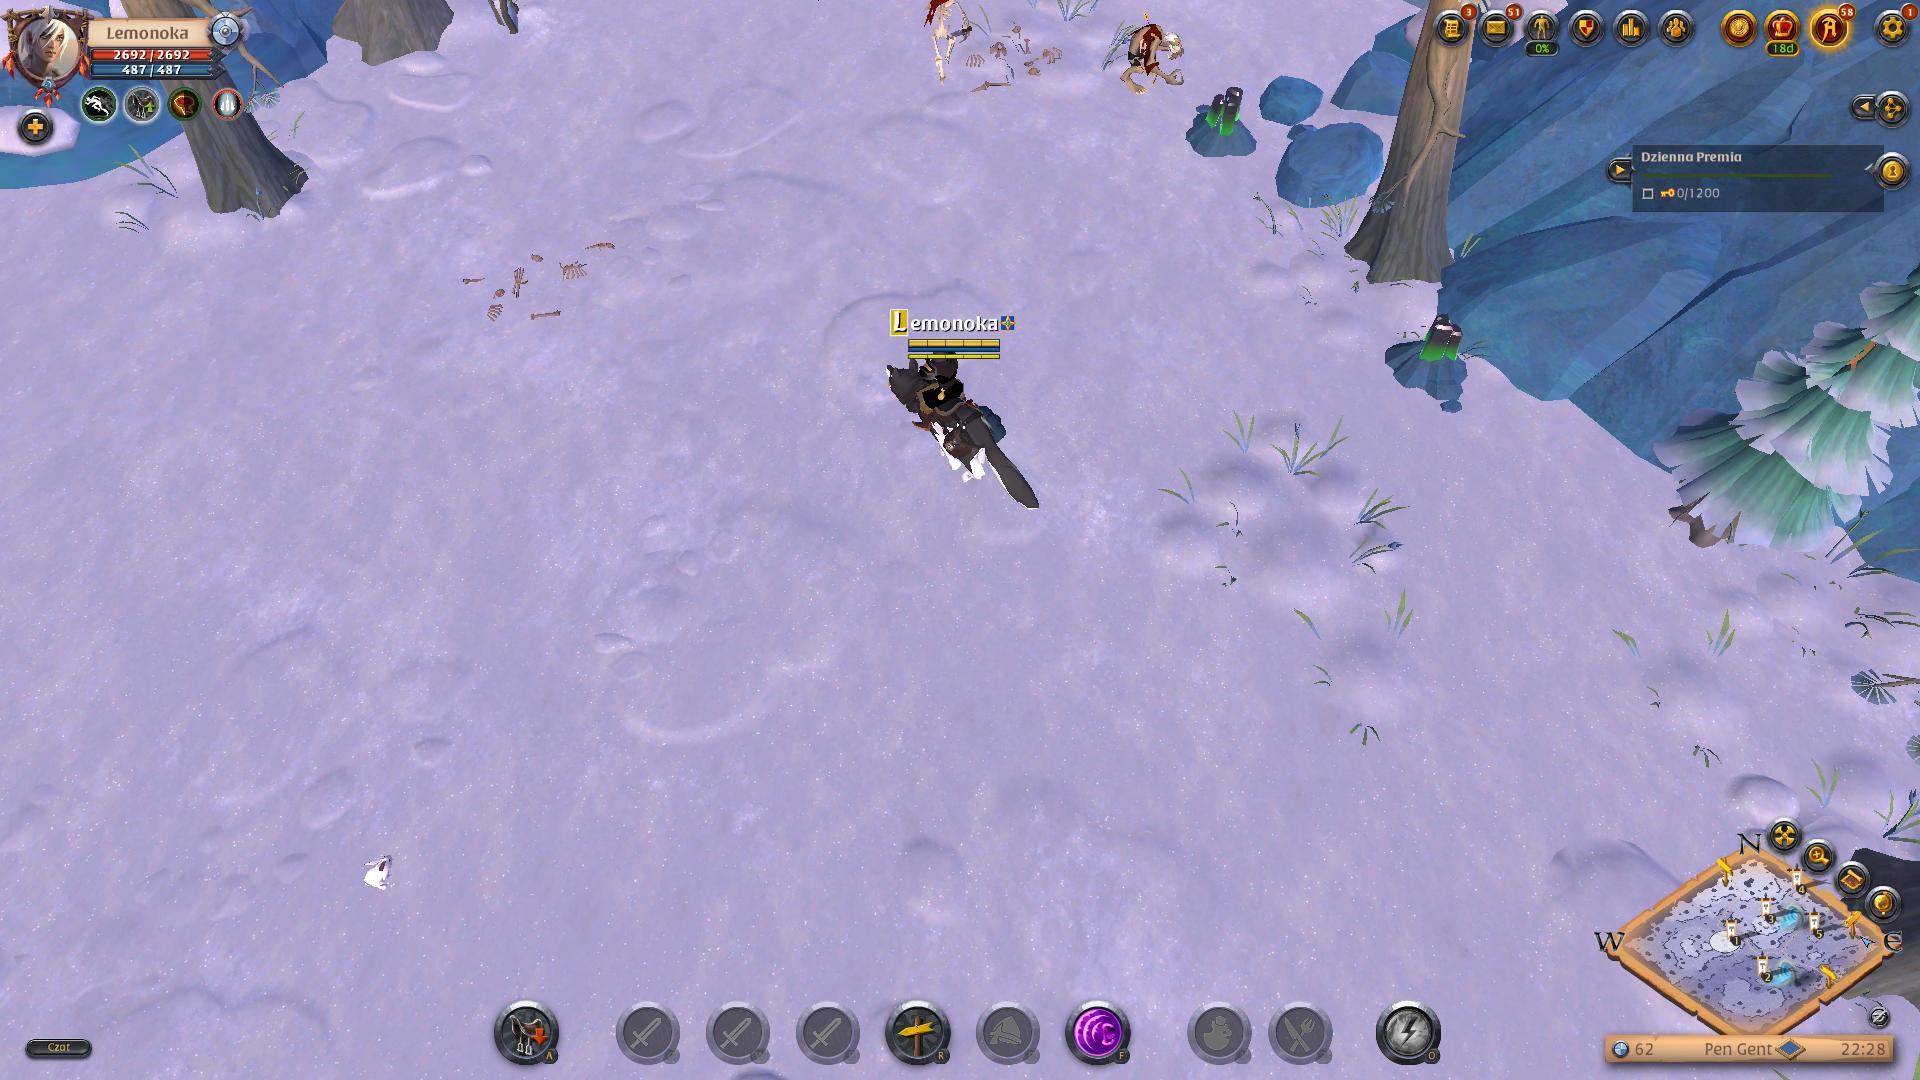ore tier 3: (1389, 314, 1473, 418), (1182, 83, 1263, 165)
